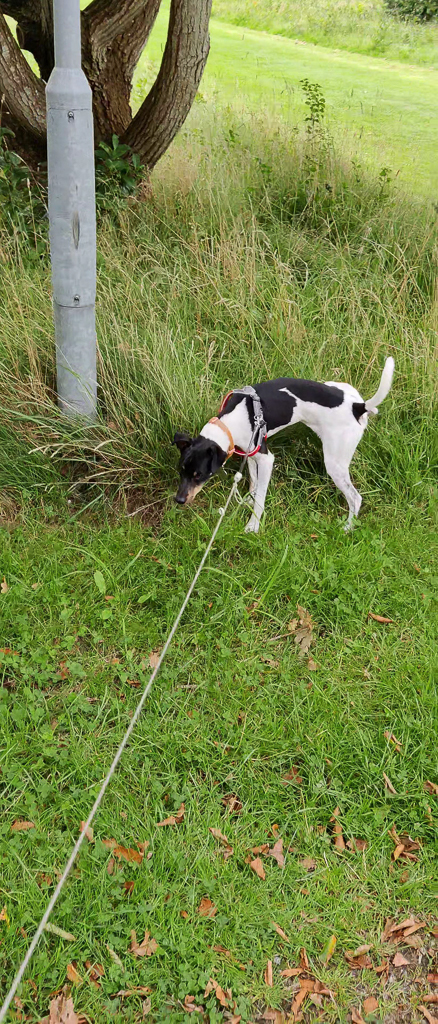Dog: (160, 347, 411, 540)
